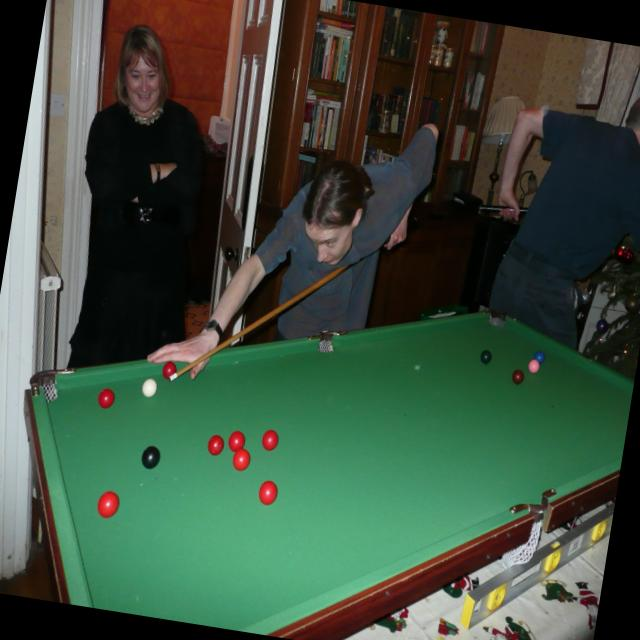Ball: (47, 278, 549, 639)
